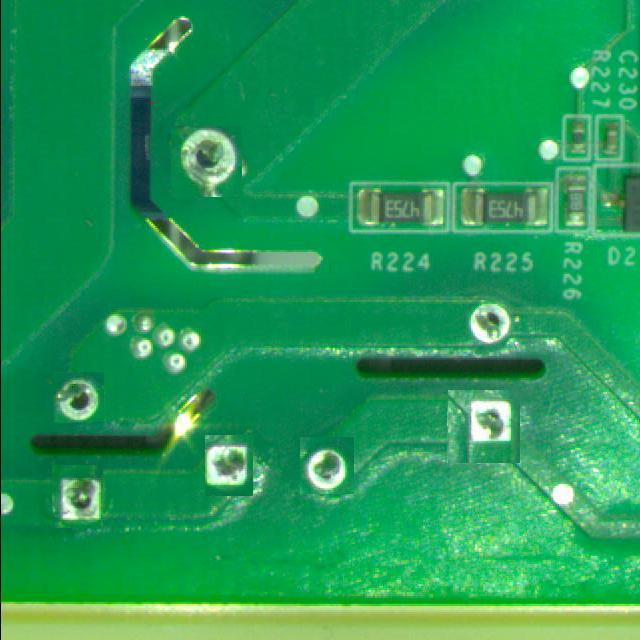lack_of_part: (447, 390, 520, 463), (171, 126, 242, 198), (460, 292, 522, 351), (49, 468, 106, 526), (298, 438, 354, 493), (204, 434, 253, 496), (54, 372, 104, 423)
